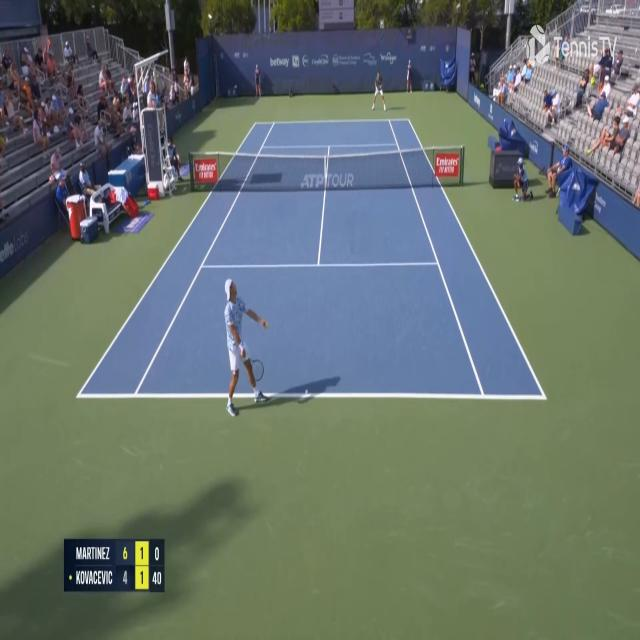tennis-player: (222, 275, 272, 422), (371, 69, 387, 112)
